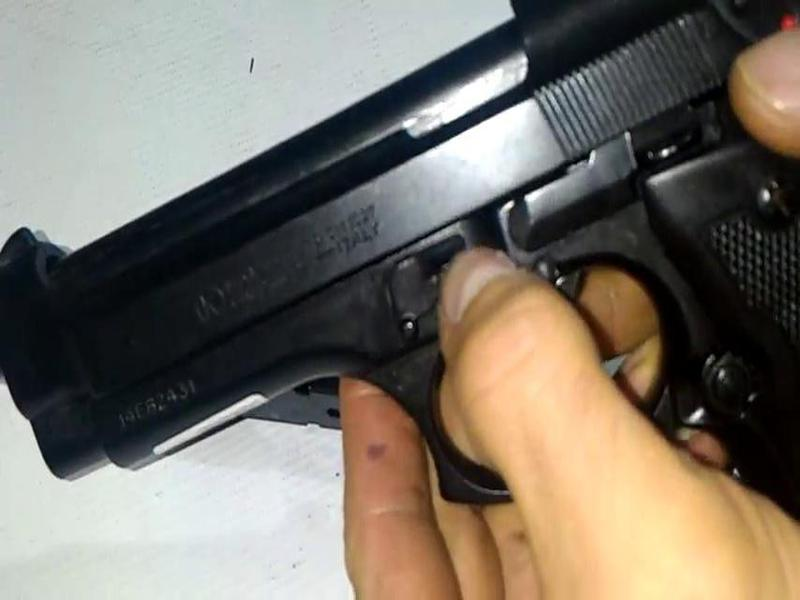Pistola: (14, 12, 800, 547)
